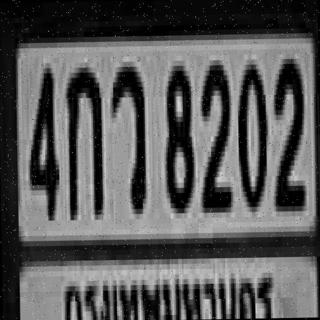A01: (64, 62, 101, 215)
A37: (109, 61, 144, 209)
N00: (235, 59, 265, 202)
N02: (198, 54, 230, 208), (272, 53, 304, 206)
N04: (26, 63, 58, 216)
N08: (162, 61, 193, 208)
